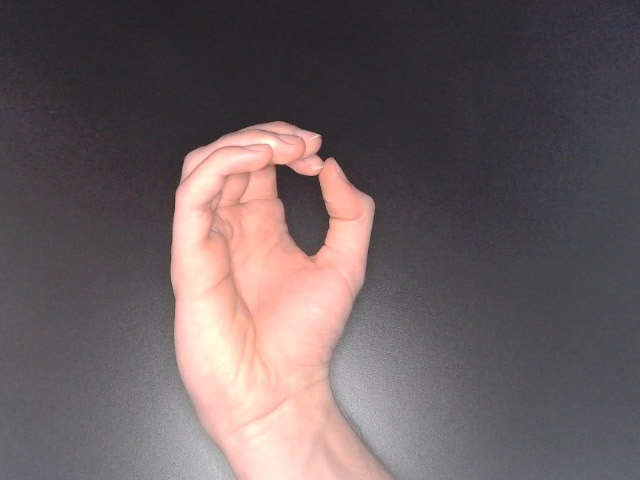o: (161, 115, 381, 454)
